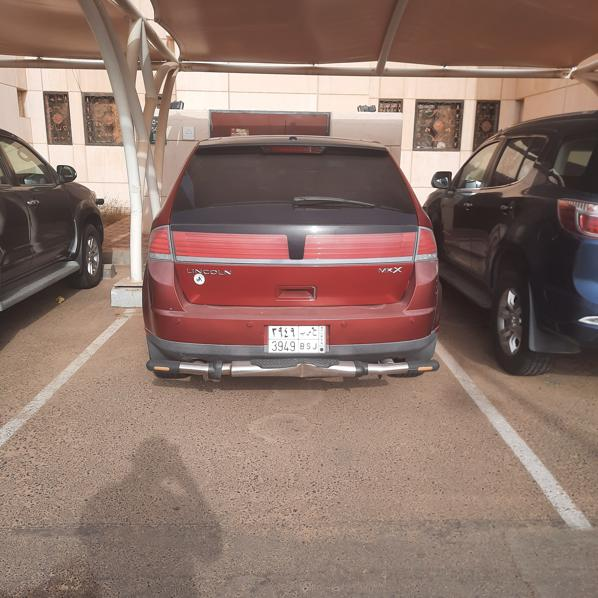numberplate: (267, 324, 326, 353)
